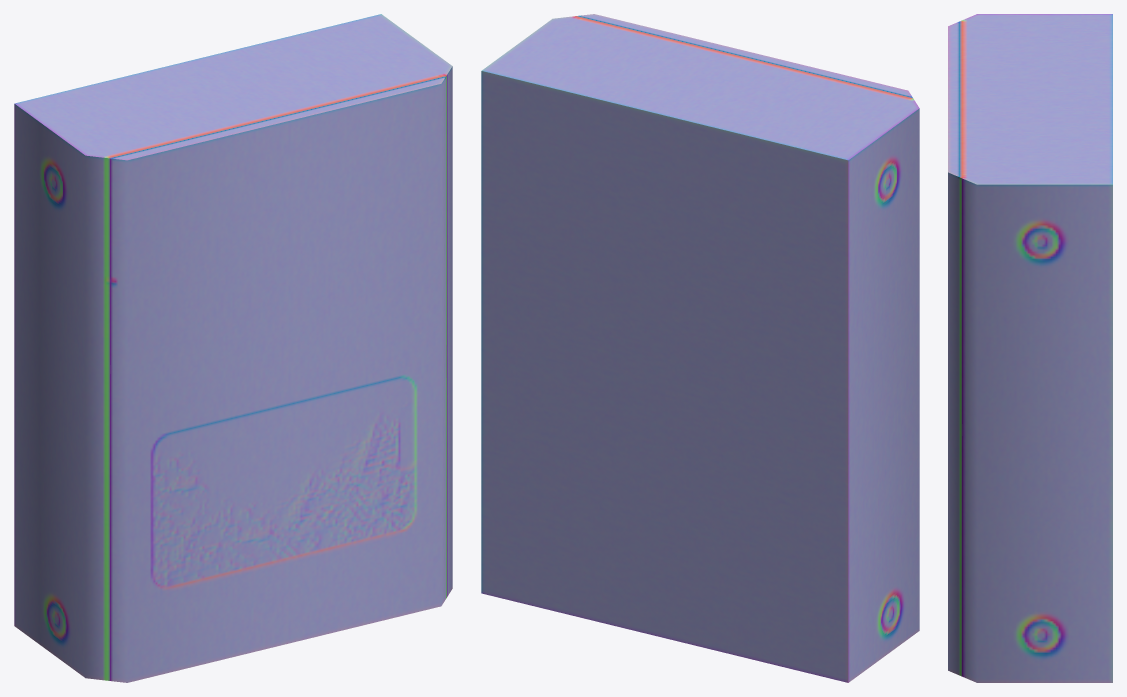
File: LitElectricBoxA2.fbx
3 renders of one model, left to right at view 1: azimuth 30°, elevation 25°; view 2: azimuth 150°, elevation 25°; view 3: azimuth 270°, elevation 25°, orthographic. The views are drawn at different scales.
Parts seen in each view (by area): view 1: LitElectricBoxA2; view 2: LitElectricBoxA2; view 3: LitElectricBoxA2.
Part boxes in pixels (box(x1,y1,x2,y2)): LitElectricBoxA2: box(14, 14, 452, 682); LitElectricBoxA2: box(481, 14, 919, 682); LitElectricBoxA2: box(948, 14, 1112, 682).
Size of the model in its own units: 29.4 by 40 by 12.
1 material, 1 textured.
